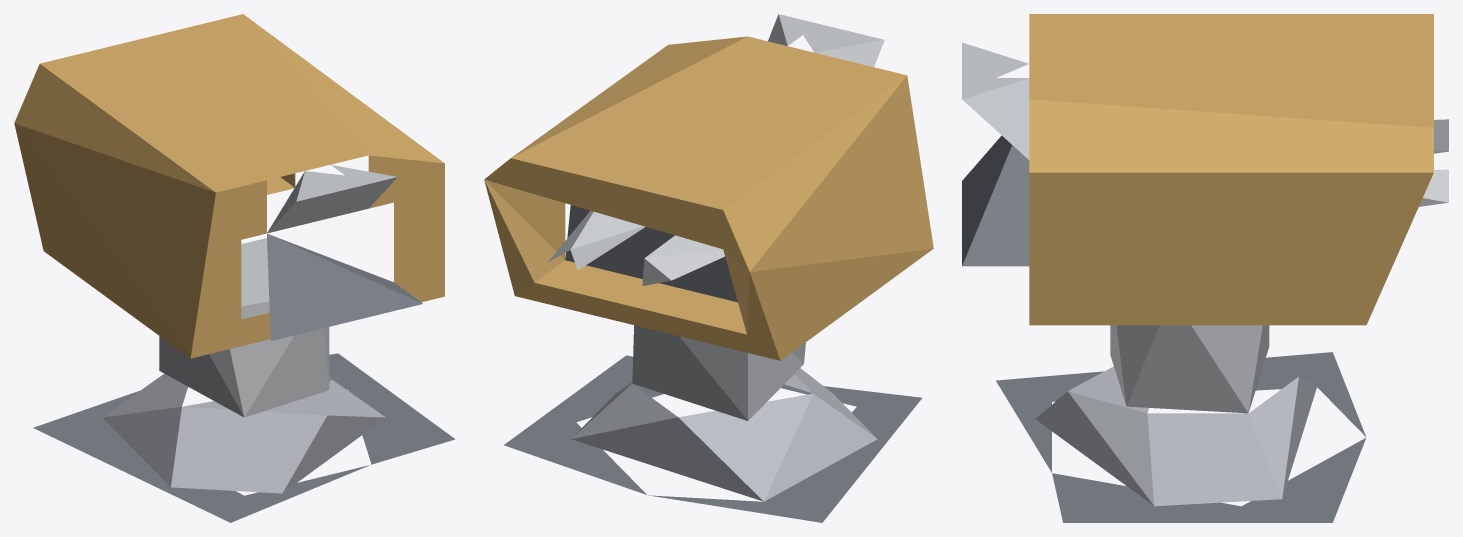
Rendered from turret_single.lod.glb.
The picture shows the model from 3 angles, left to right: view 1: azimuth 30°, elevation 25°; view 2: azimuth 150°, elevation 25°; view 3: azimuth 270°, elevation 25°; orthographic projection. The views are drawn at different scales.
Visible parts, largest first — view 1: turret, turret_single; view 2: turret, turret_single; view 3: turret, turret_single.
Part boxes in pixels (<box>): turret: <box>14,14,444,358</box>; turret_single: <box>33,165,455,522</box>; turret: <box>484,36,933,360</box>; turret_single: <box>504,14,922,522</box>; turret: <box>1029,14,1433,325</box>; turret_single: <box>962,42,1448,522</box>.
Size of the model in its own units: 0.6001 by 0.6001 by 0.7224.
